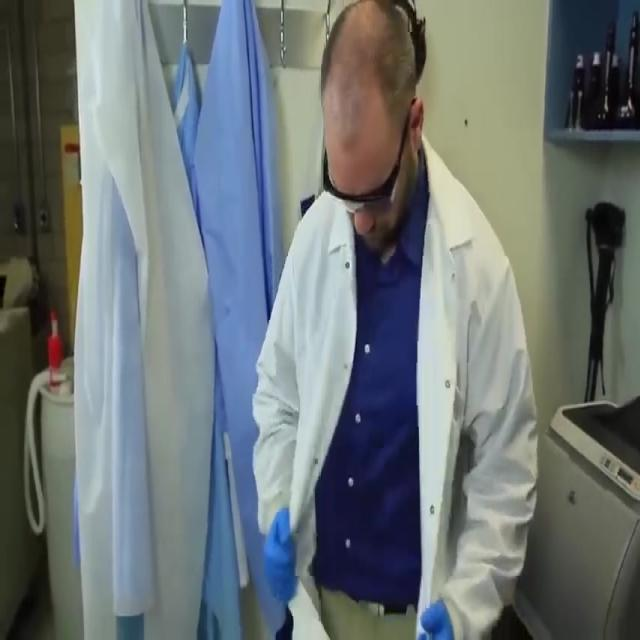googles: (324, 172, 396, 215)
labcoat: (253, 126, 539, 640), (72, 1, 215, 640)
